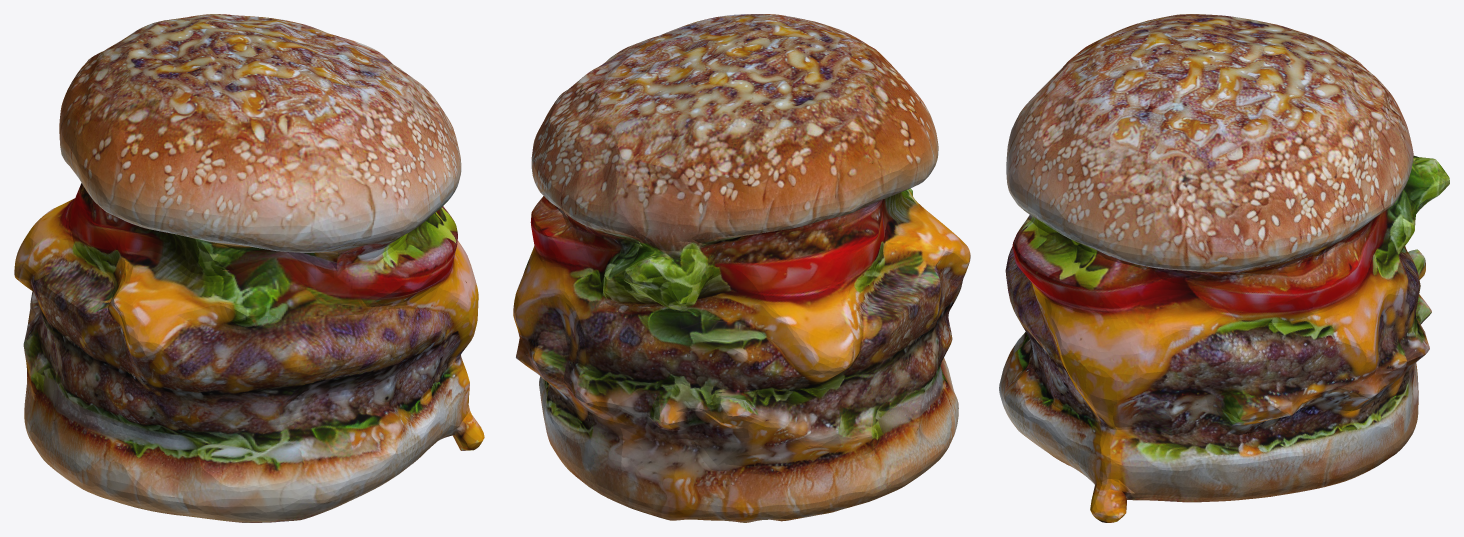
The model's file is Burger.glb.
3 views of the same model, side by side, from view 1: azimuth 30°, elevation 25°; view 2: azimuth 150°, elevation 25°; view 3: azimuth 270°, elevation 25° (orthographic). The views are drawn at different scales.
Size of the model in its own units: 1.14 by 1.16 by 1.2.
1 material, 1 textured.
